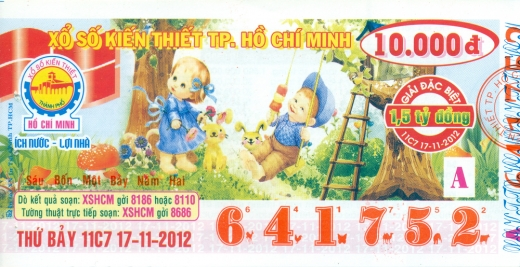serial_zone: (208, 201, 500, 253)
